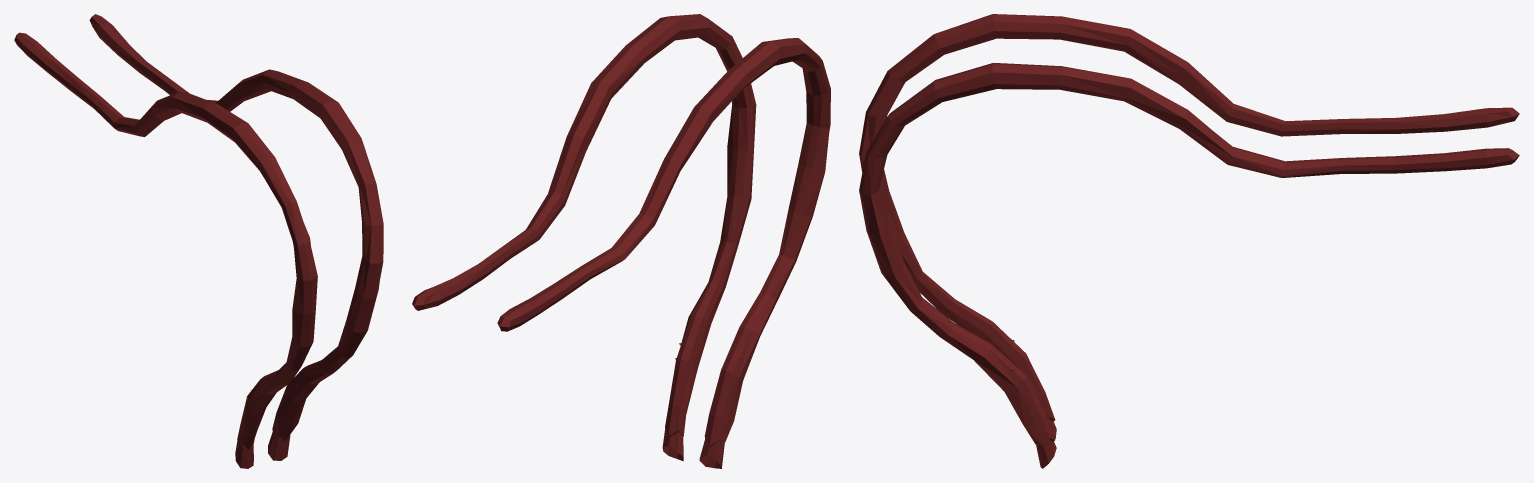
File: Artéria Cerebral Anterior.FBX
The picture shows the model from 3 angles, left to right: view 1: azimuth 30°, elevation 25°; view 2: azimuth 150°, elevation 25°; view 3: azimuth 270°, elevation 25°; orthographic projection. The views are drawn at different scales.
Parts seen in each view (by area): view 1: CS_Arterie; view 2: CS_Arterie; view 3: CS_Arterie.
Part boxes in pixels (left/top/right/bottom): CS_Arterie: left=14, top=14, right=383, bottom=468; CS_Arterie: left=412, top=14, right=830, bottom=468; CS_Arterie: left=859, top=14, right=1519, bottom=468.
Size of the model in its own units: 55.02 by 180 by 257.
